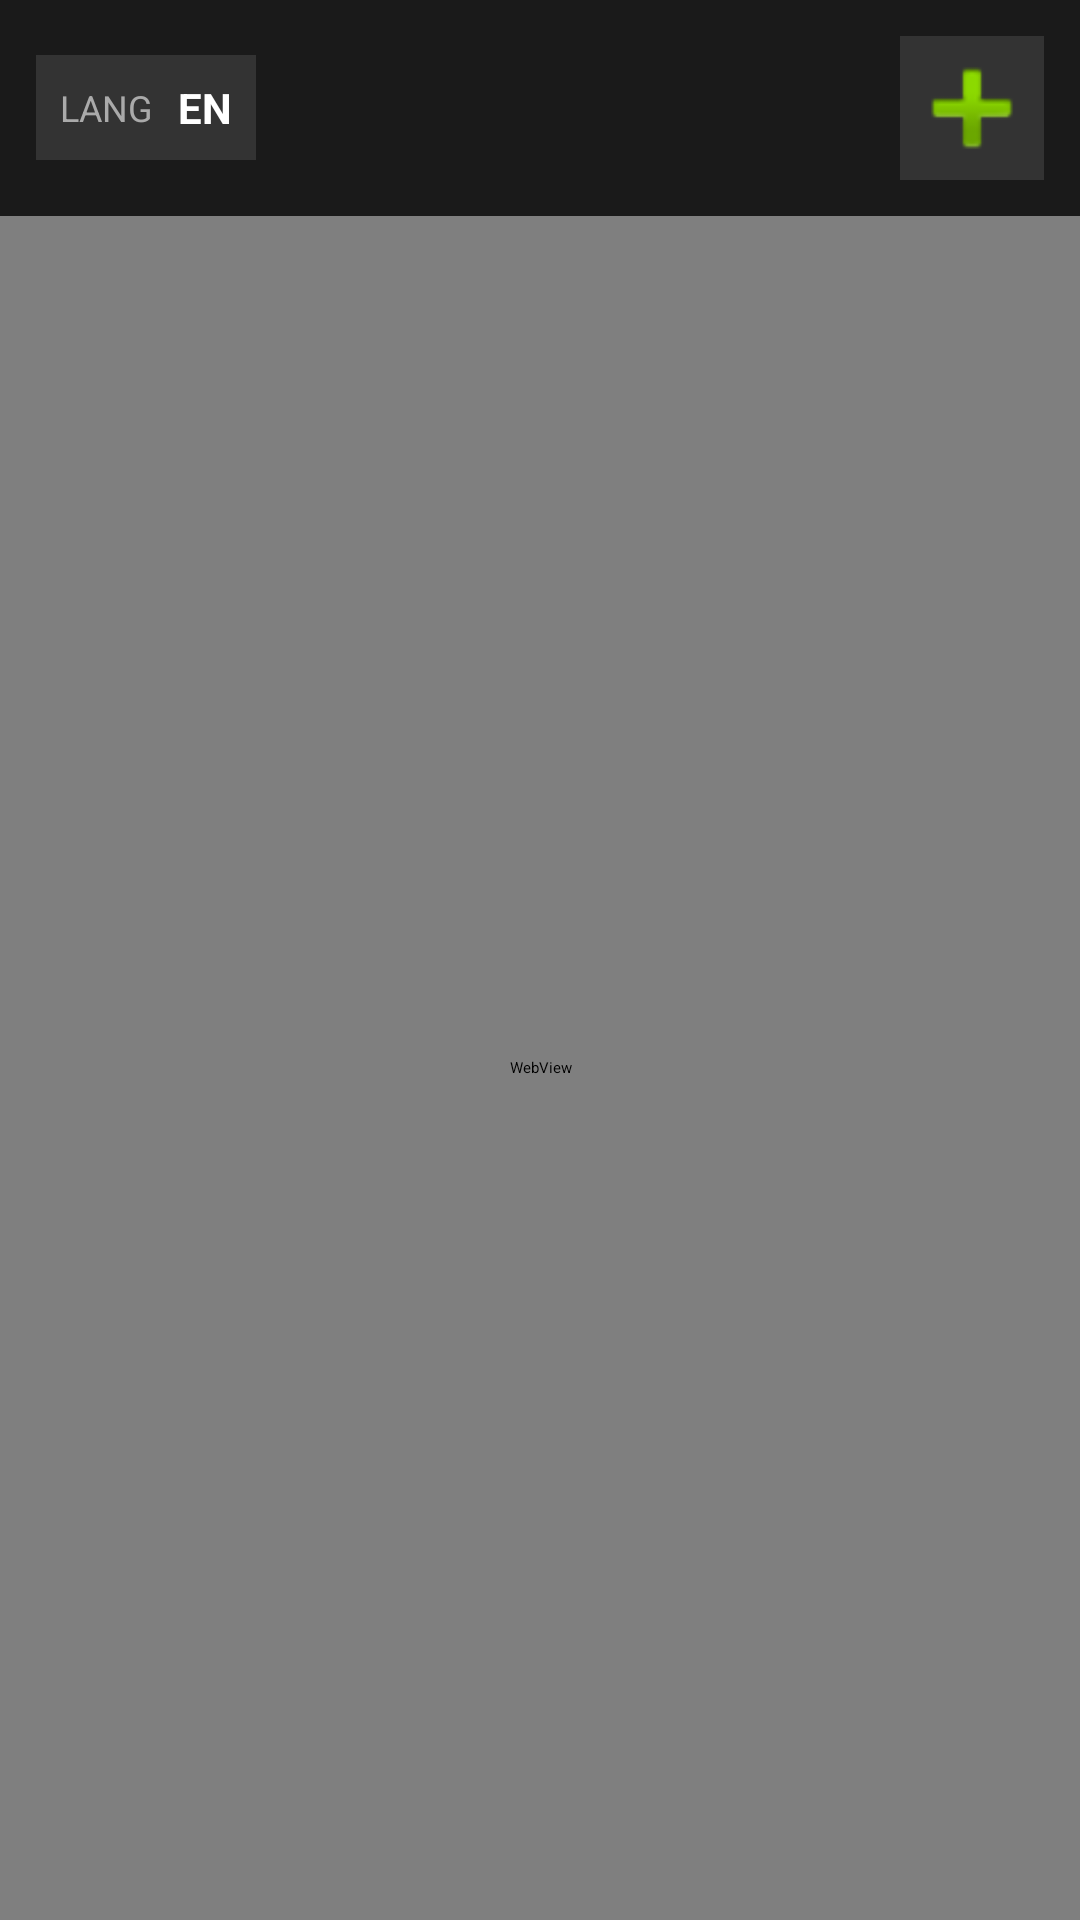

Locate icon controls on the screen. Image size 1080px×1920px, boxes as box(x1, y1, x2, y2).
Add website: box(900, 36, 1044, 180)
